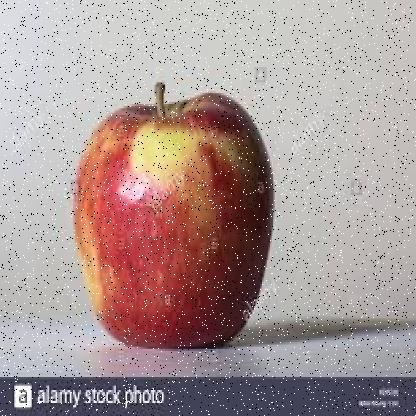apple: (75, 100, 270, 346)
